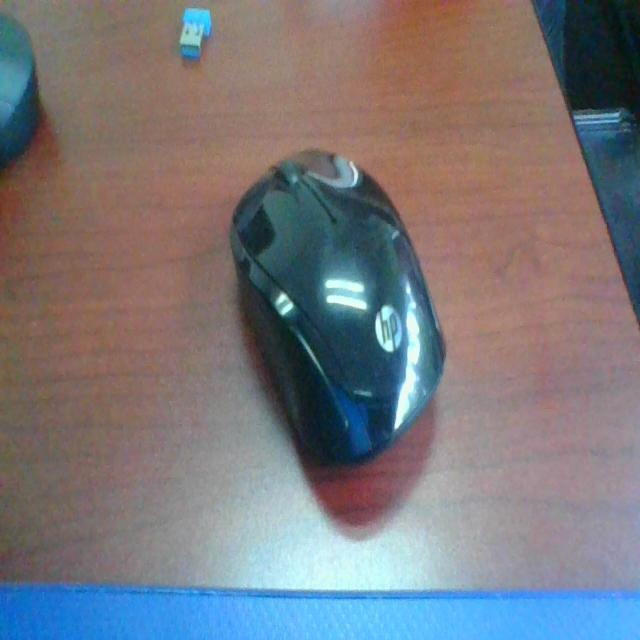mouse: (220, 136, 448, 471)
